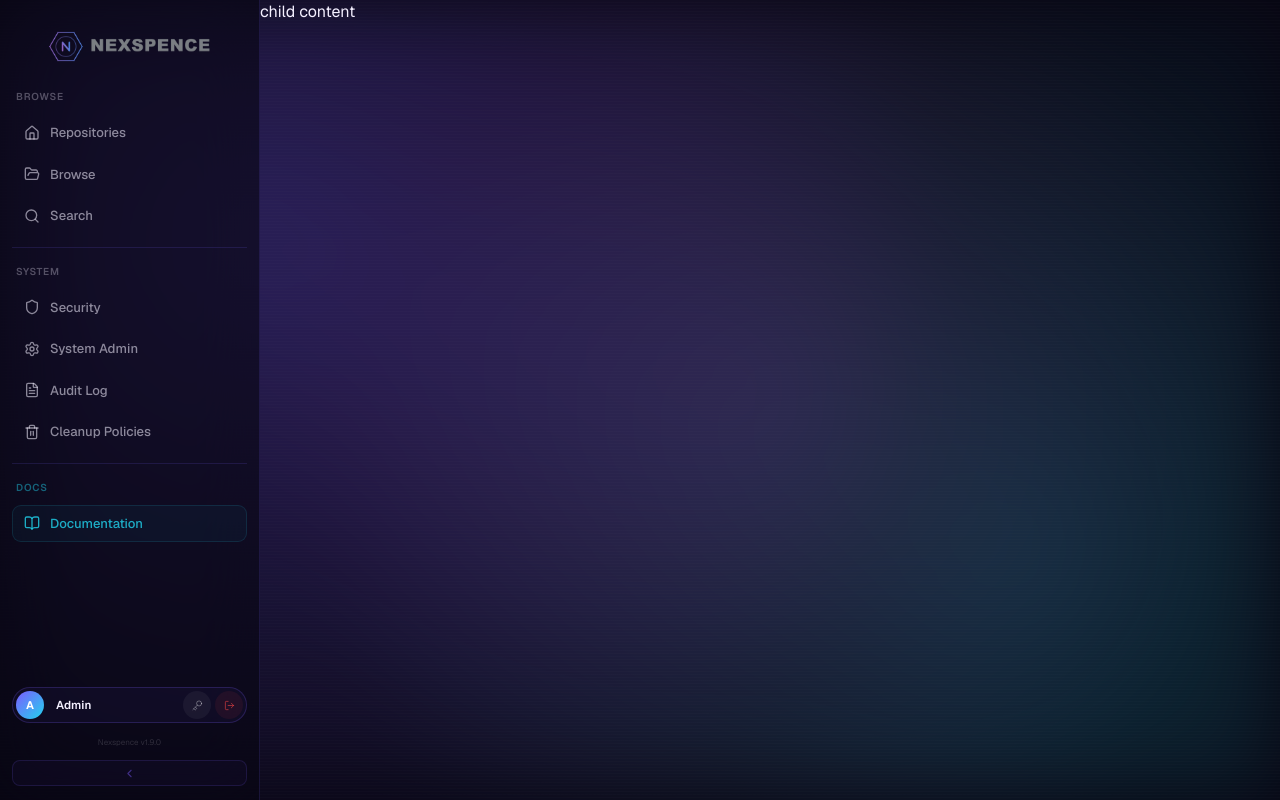
Test: Layout › opens the Profile modal and can dismiss it
This screenshot has width=1280, height=800.
Step 1. Click the button titled "API Tokens & Profile" → x=197, y=705, box [183, 691, 211, 719]
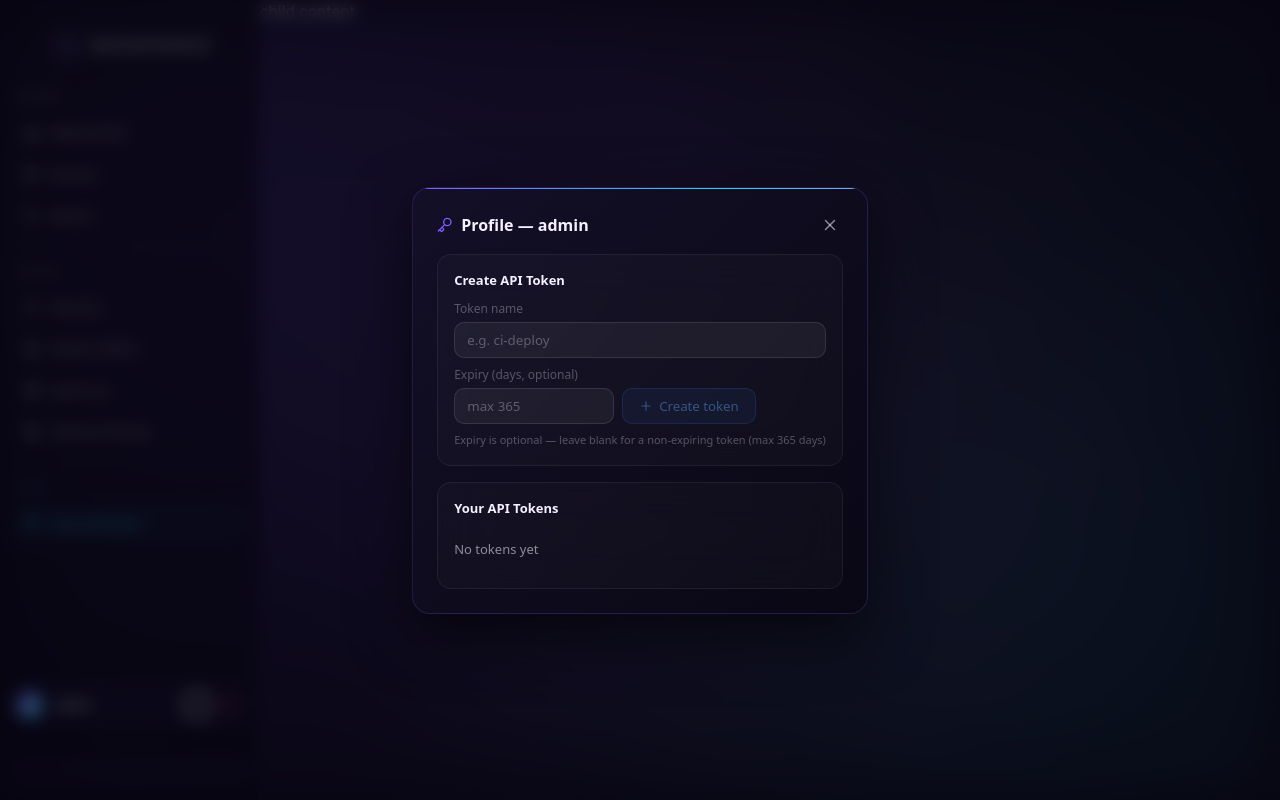
Expected: the text "Profile — admin" is shown, [437, 212, 589, 236]
Expected: the text "Create API Token" is shown, [454, 270, 565, 288]
Expected: the text "No tokens yet" is shown, [454, 540, 538, 558]
Close via the X button in the modal header.
Step 2. Click the 1st button → x=830, y=224, box [817, 212, 843, 238]
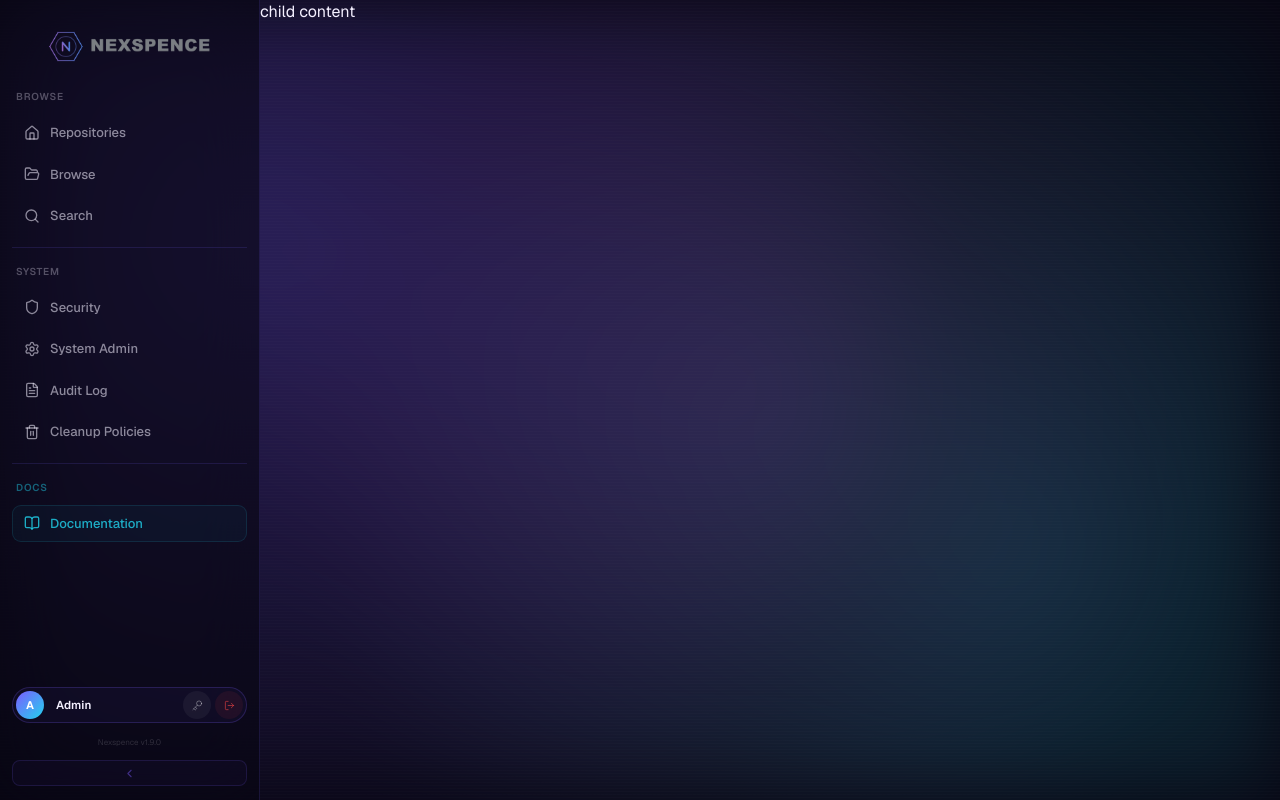
Expected: the text "Profile — admin" is gone
